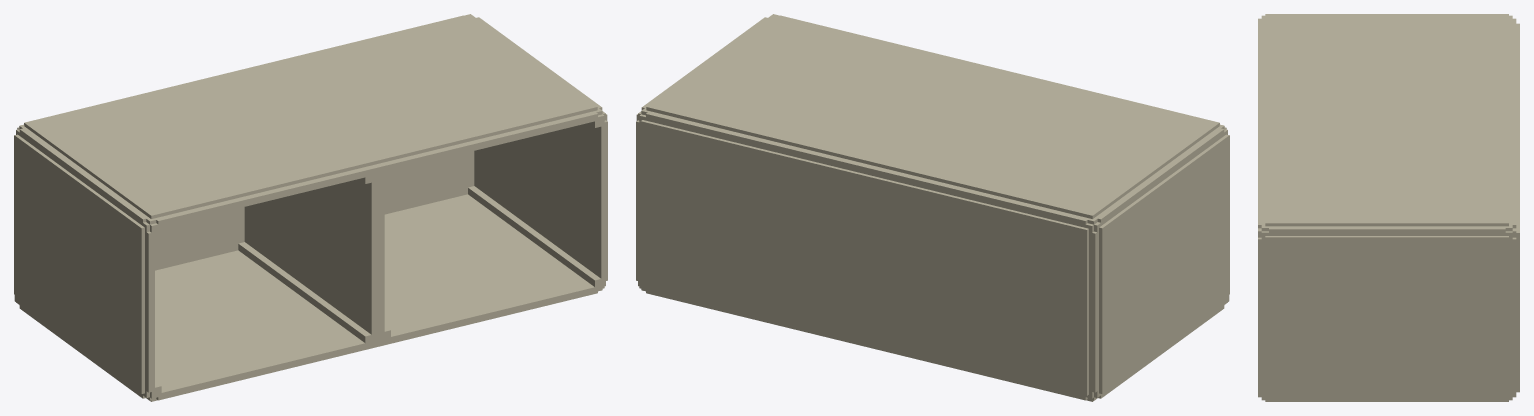
The model's file is factory4.2-39.obj.
The picture shows the model from 3 angles, left to right: view 1: azimuth 30°, elevation 25°; view 2: azimuth 150°, elevation 25°; view 3: azimuth 270°, elevation 25°; orthographic projection. The views are drawn at different scales.
Bounding box in the file's own units: 14.4 × 5.5 × 7.3.
1 material, 1 textured.
